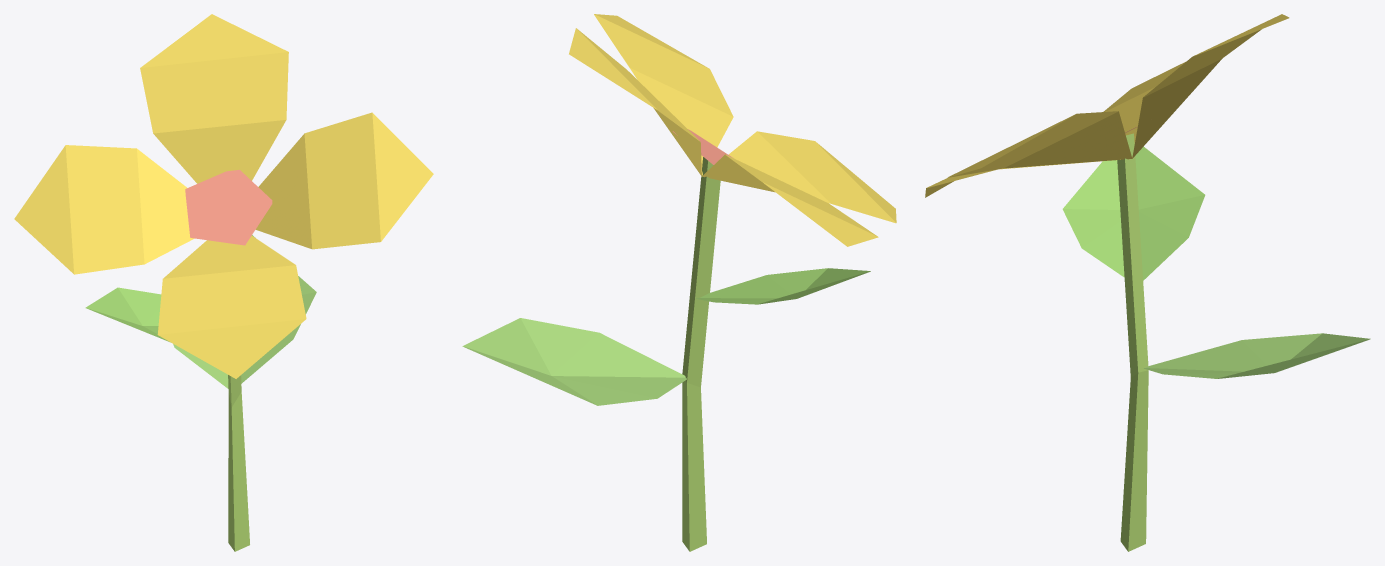
The model's file is Flower_d_TwoS_07.fbx.
3 views of the same model, side by side, from view 1: azimuth 30°, elevation 25°; view 2: azimuth 150°, elevation 25°; view 3: azimuth 270°, elevation 25° (orthographic). The views are drawn at different scales.
Visible parts, largest first — view 1: Flower_d_TwoS_07; view 2: Flower_d_TwoS_07; view 3: Flower_d_TwoS_07.
Boxes of the visible parts, x1,y1,x2,y2 form: Flower_d_TwoS_07: (14,14,433,551); Flower_d_TwoS_07: (462,14,896,551); Flower_d_TwoS_07: (925,14,1370,551).
Size of the model in its own units: 21.83 by 31.68 by 23.2.
